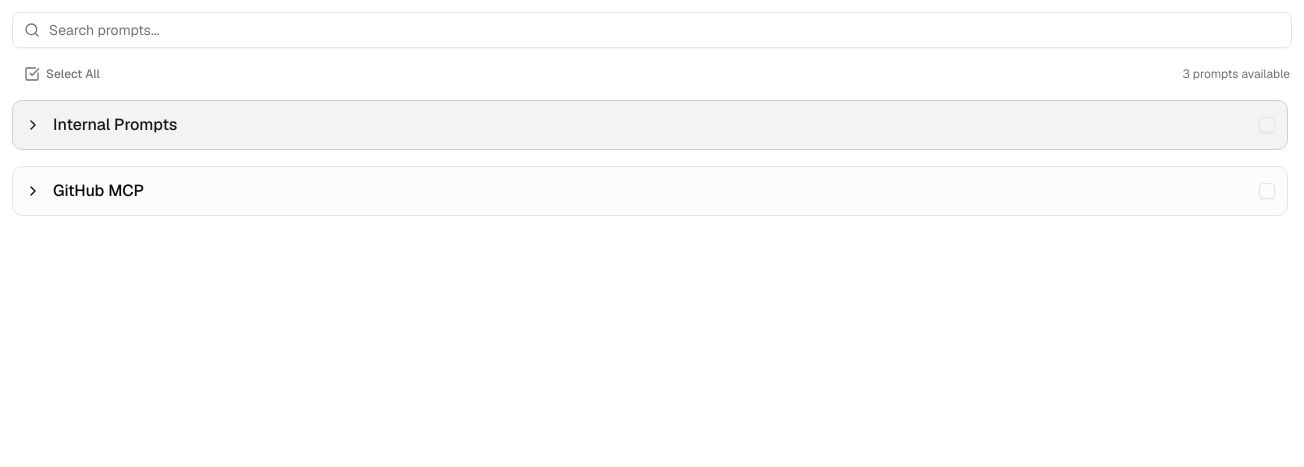
Test: PromptPicker › renders both custom and MCP prompts in accordions
The width and height of the screenshot is (1304, 467).
Check: the text "GitHub MCP" is shown, box top-left (53, 179), bottom-right (144, 203)
// Expand Internal Prompts
Step 1. Click the text "Internal Prompts" → [115, 125], box top-left (53, 113), bottom-right (177, 137)
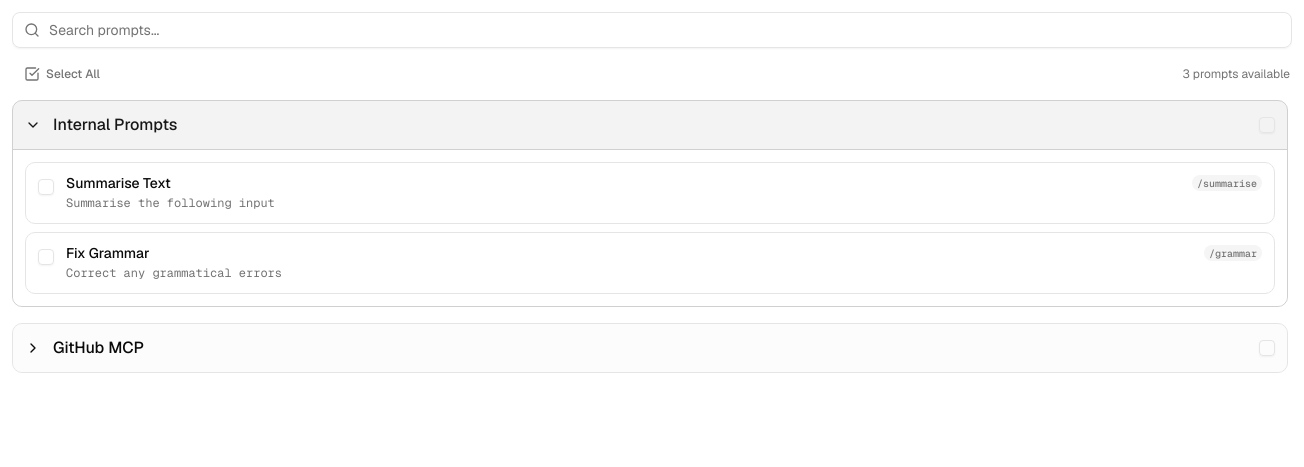
Check: the text "Summarise Text" is shown, box top-left (66, 176), bottom-right (171, 190)
Check: the text "/summarise" is shown, box top-left (1192, 175), bottom-right (1262, 191)
Check: the text "Fix Grammar" is shown, box top-left (66, 246), bottom-right (150, 260)
// Expand GitHub MCP
Step 2. Click the text "GitHub MCP" → [99, 348], box top-left (53, 336), bottom-right (144, 360)
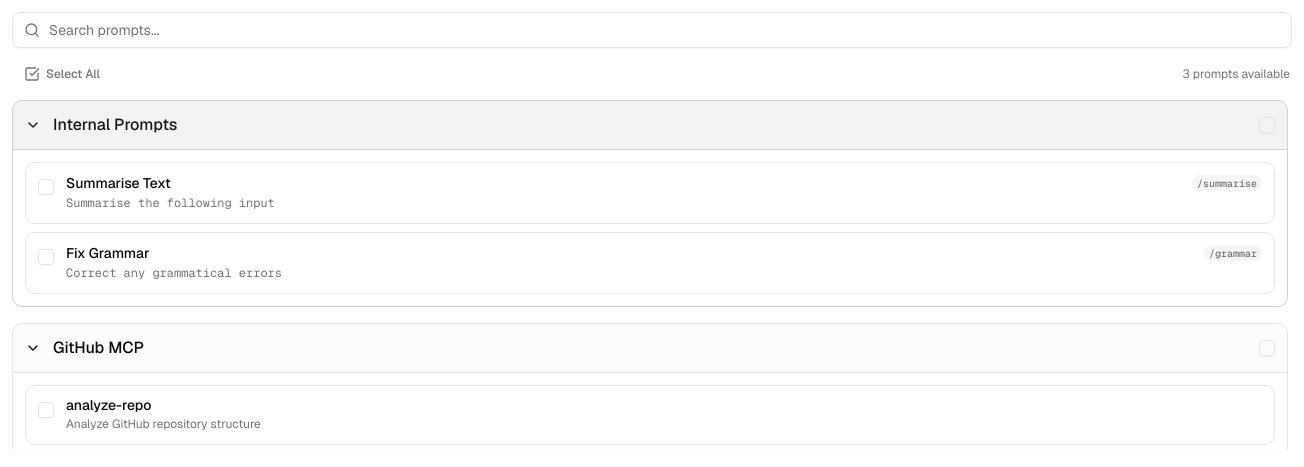
Check: the text "analyze-repo" is shown, box top-left (66, 398), bottom-right (151, 412)
